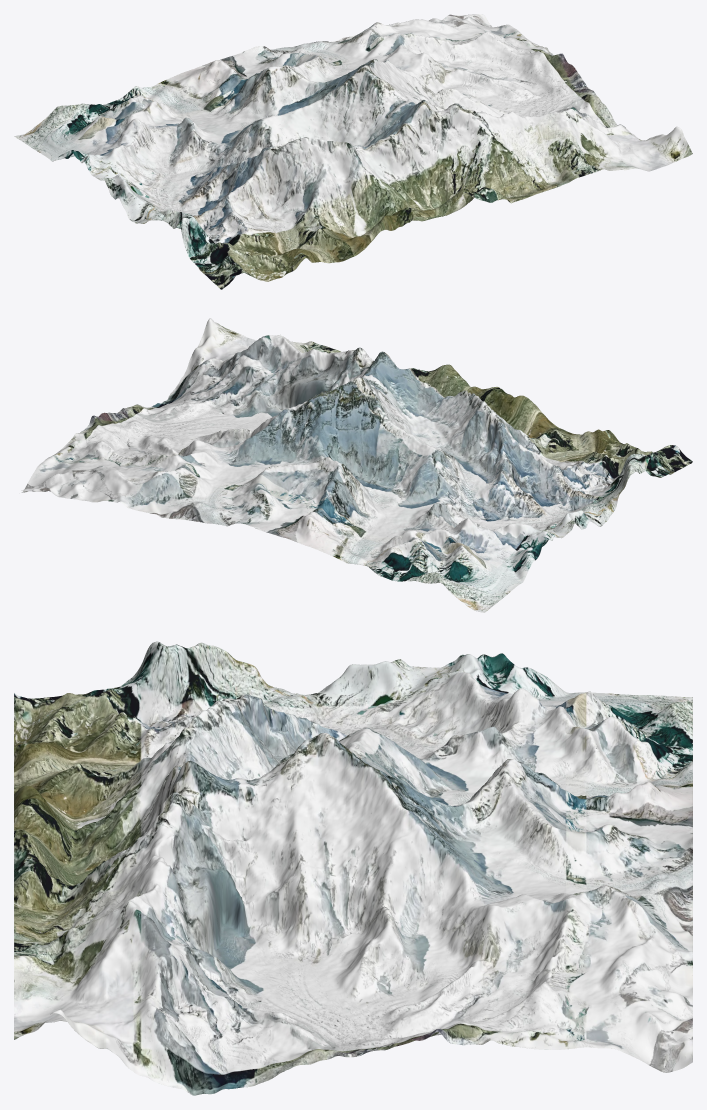
The model's file is everest_hero_lo_webp.glb.
The picture shows the model from 3 angles, top to bottom: view 1: azimuth 30°, elevation 25°; view 2: azimuth 150°, elevation 25°; view 3: azimuth 270°, elevation 25°; orthographic projection. The views are drawn at different scales.
Parts seen in each view (by area): view 1: world; view 2: world; view 3: world.
Part boxes in pixels (left/top/right/bottom): world: left=14, top=14, right=692, bottom=289; world: left=21, top=318, right=692, bottom=612; world: left=14, top=641, right=692, bottom=1095.
Size of the model in its own units: 18480 by 4082 by 14138.
Materials: 1 (1 with a texture image).
